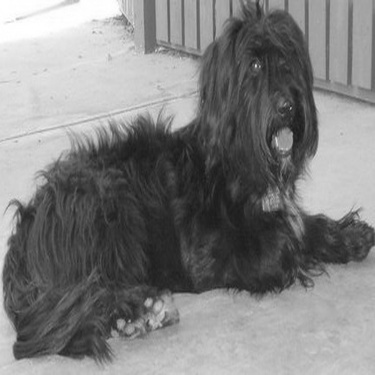dog: (2, 4, 373, 365)
